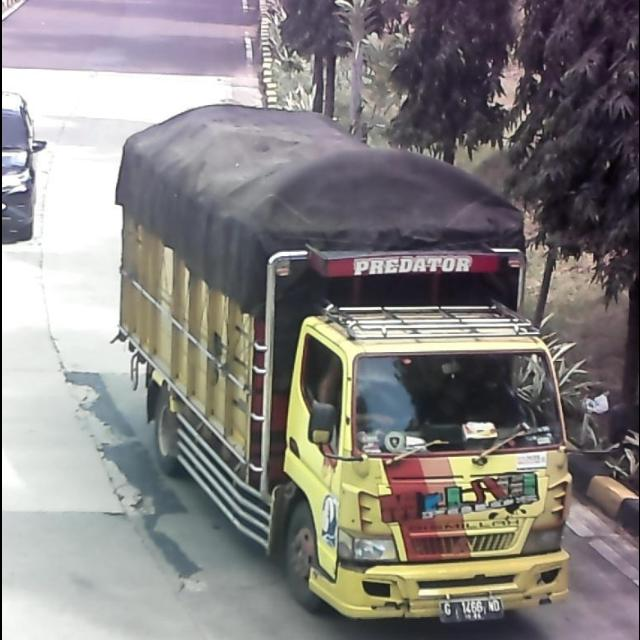plate: (437, 597, 511, 623)
